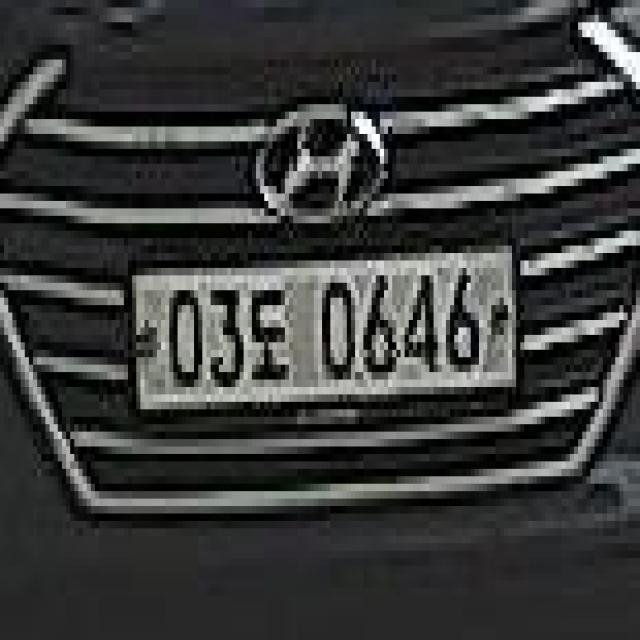illegal_plate: (128, 241, 523, 432)
